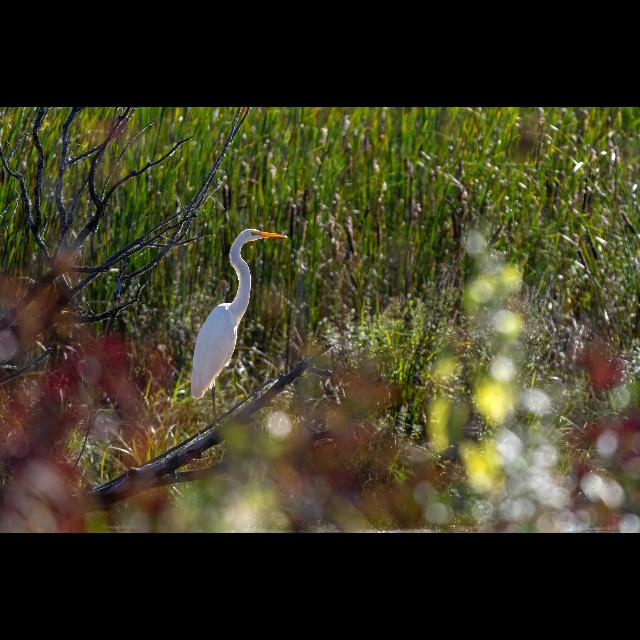egret: (187, 223, 289, 403)
